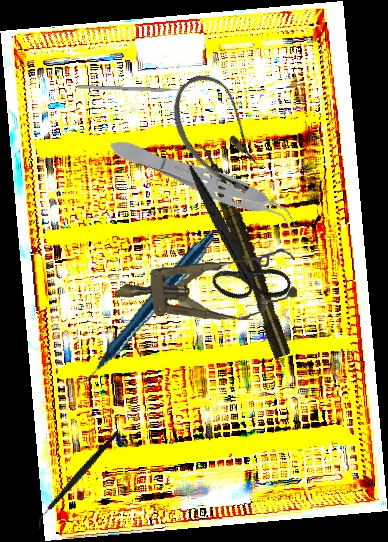Cannula: (154, 64, 286, 204)
Chopper: (14, 429, 142, 531)
Handpiece: (48, 230, 240, 386), (196, 141, 293, 360)
Iris Scissors: (143, 164, 320, 322)
Pusher: (77, 84, 196, 94)
Speculum: (112, 245, 299, 329)
Tissue Forceps: (104, 129, 309, 239)
